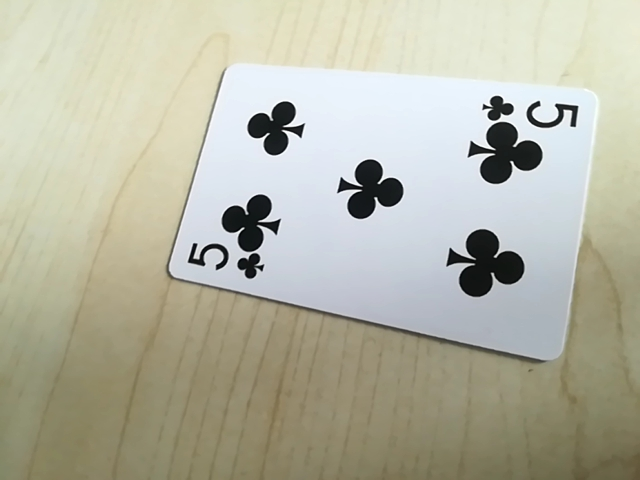mh 5: (481, 93, 581, 129), (180, 242, 271, 281)
